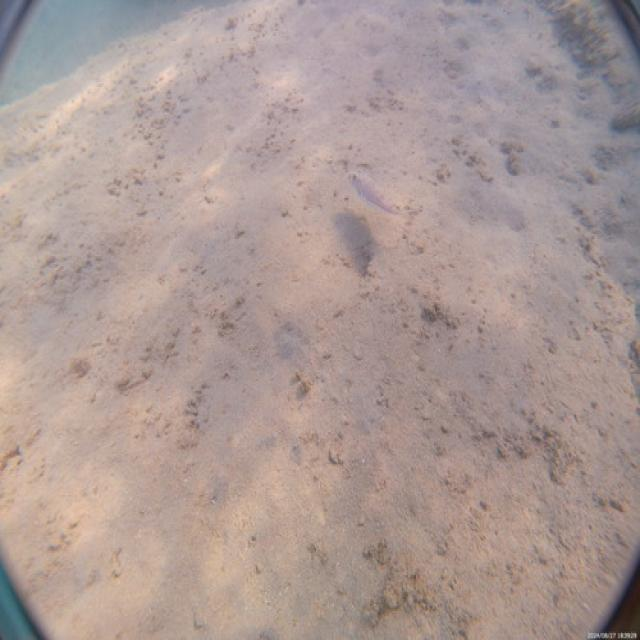Balik: (350, 171, 396, 213)
